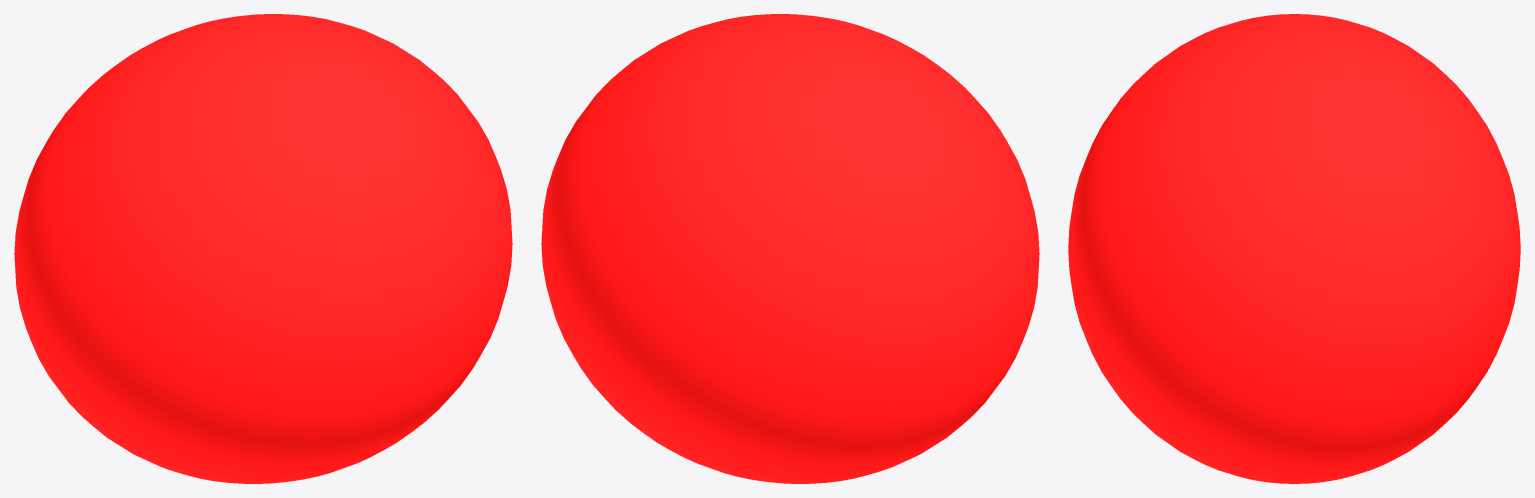
Rendered from rudolph-nose.glb.
The picture shows the model from 3 angles, left to right: view 1: azimuth 30°, elevation 25°; view 2: azimuth 150°, elevation 25°; view 3: azimuth 270°, elevation 25°; orthographic projection.
Parts seen in each view (by area): view 1: nose; view 2: nose; view 3: nose.
Part boxes in pixels (x1=…): nose: x1=14, y1=14, x2=512, y2=483; nose: x1=541, y1=14, x2=1039, y2=483; nose: x1=1068, y1=14, x2=1520, y2=483.
Bounding box in the file's own units: 2 × 1.84 × 1.8.
